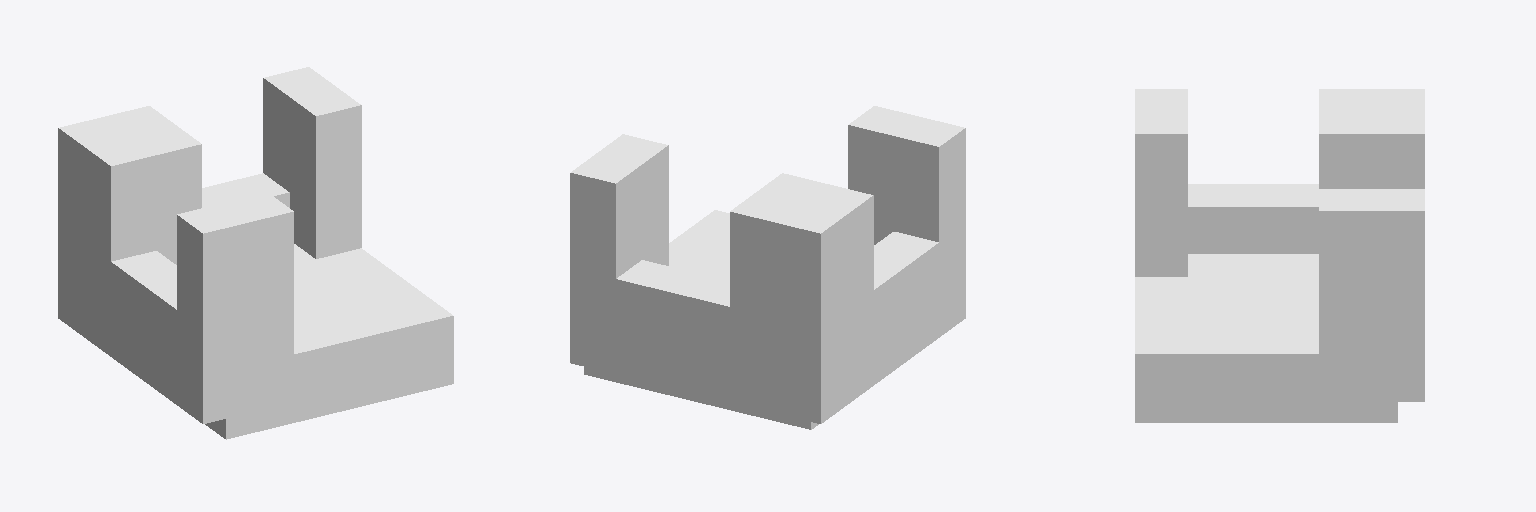
File: sandtower_1.0-0.obj
3 views of the same model, side by side, from view 1: azimuth 30°, elevation 25°; view 2: azimuth 150°, elevation 25°; view 3: azimuth 270°, elevation 25° (orthographic).
Visible parts, largest first — view 1: object 1; view 2: object 1; view 3: object 1.
Boxes of the visible parts, x1,y1,x2,y2 form: object 1: [58, 67, 453, 439]; object 1: [570, 106, 965, 429]; object 1: [1135, 89, 1424, 422].
Size of the model in its own units: 17.6 by 14.2 by 17.6.